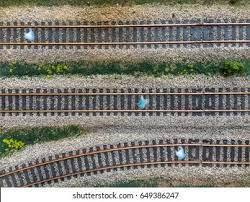Plastic: (21, 27, 37, 43), (174, 145, 187, 160), (135, 96, 150, 108)
